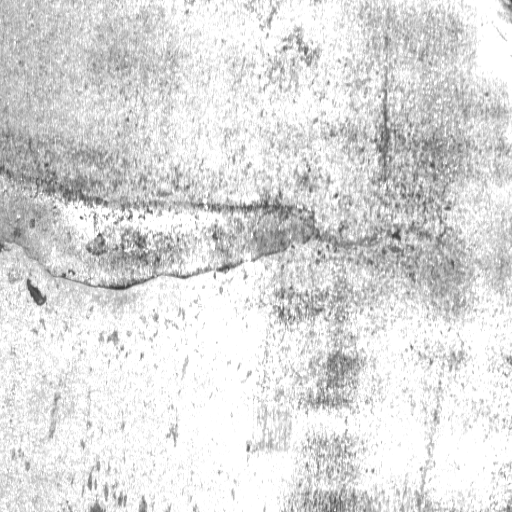qiaopi: (1, 165, 321, 293)
